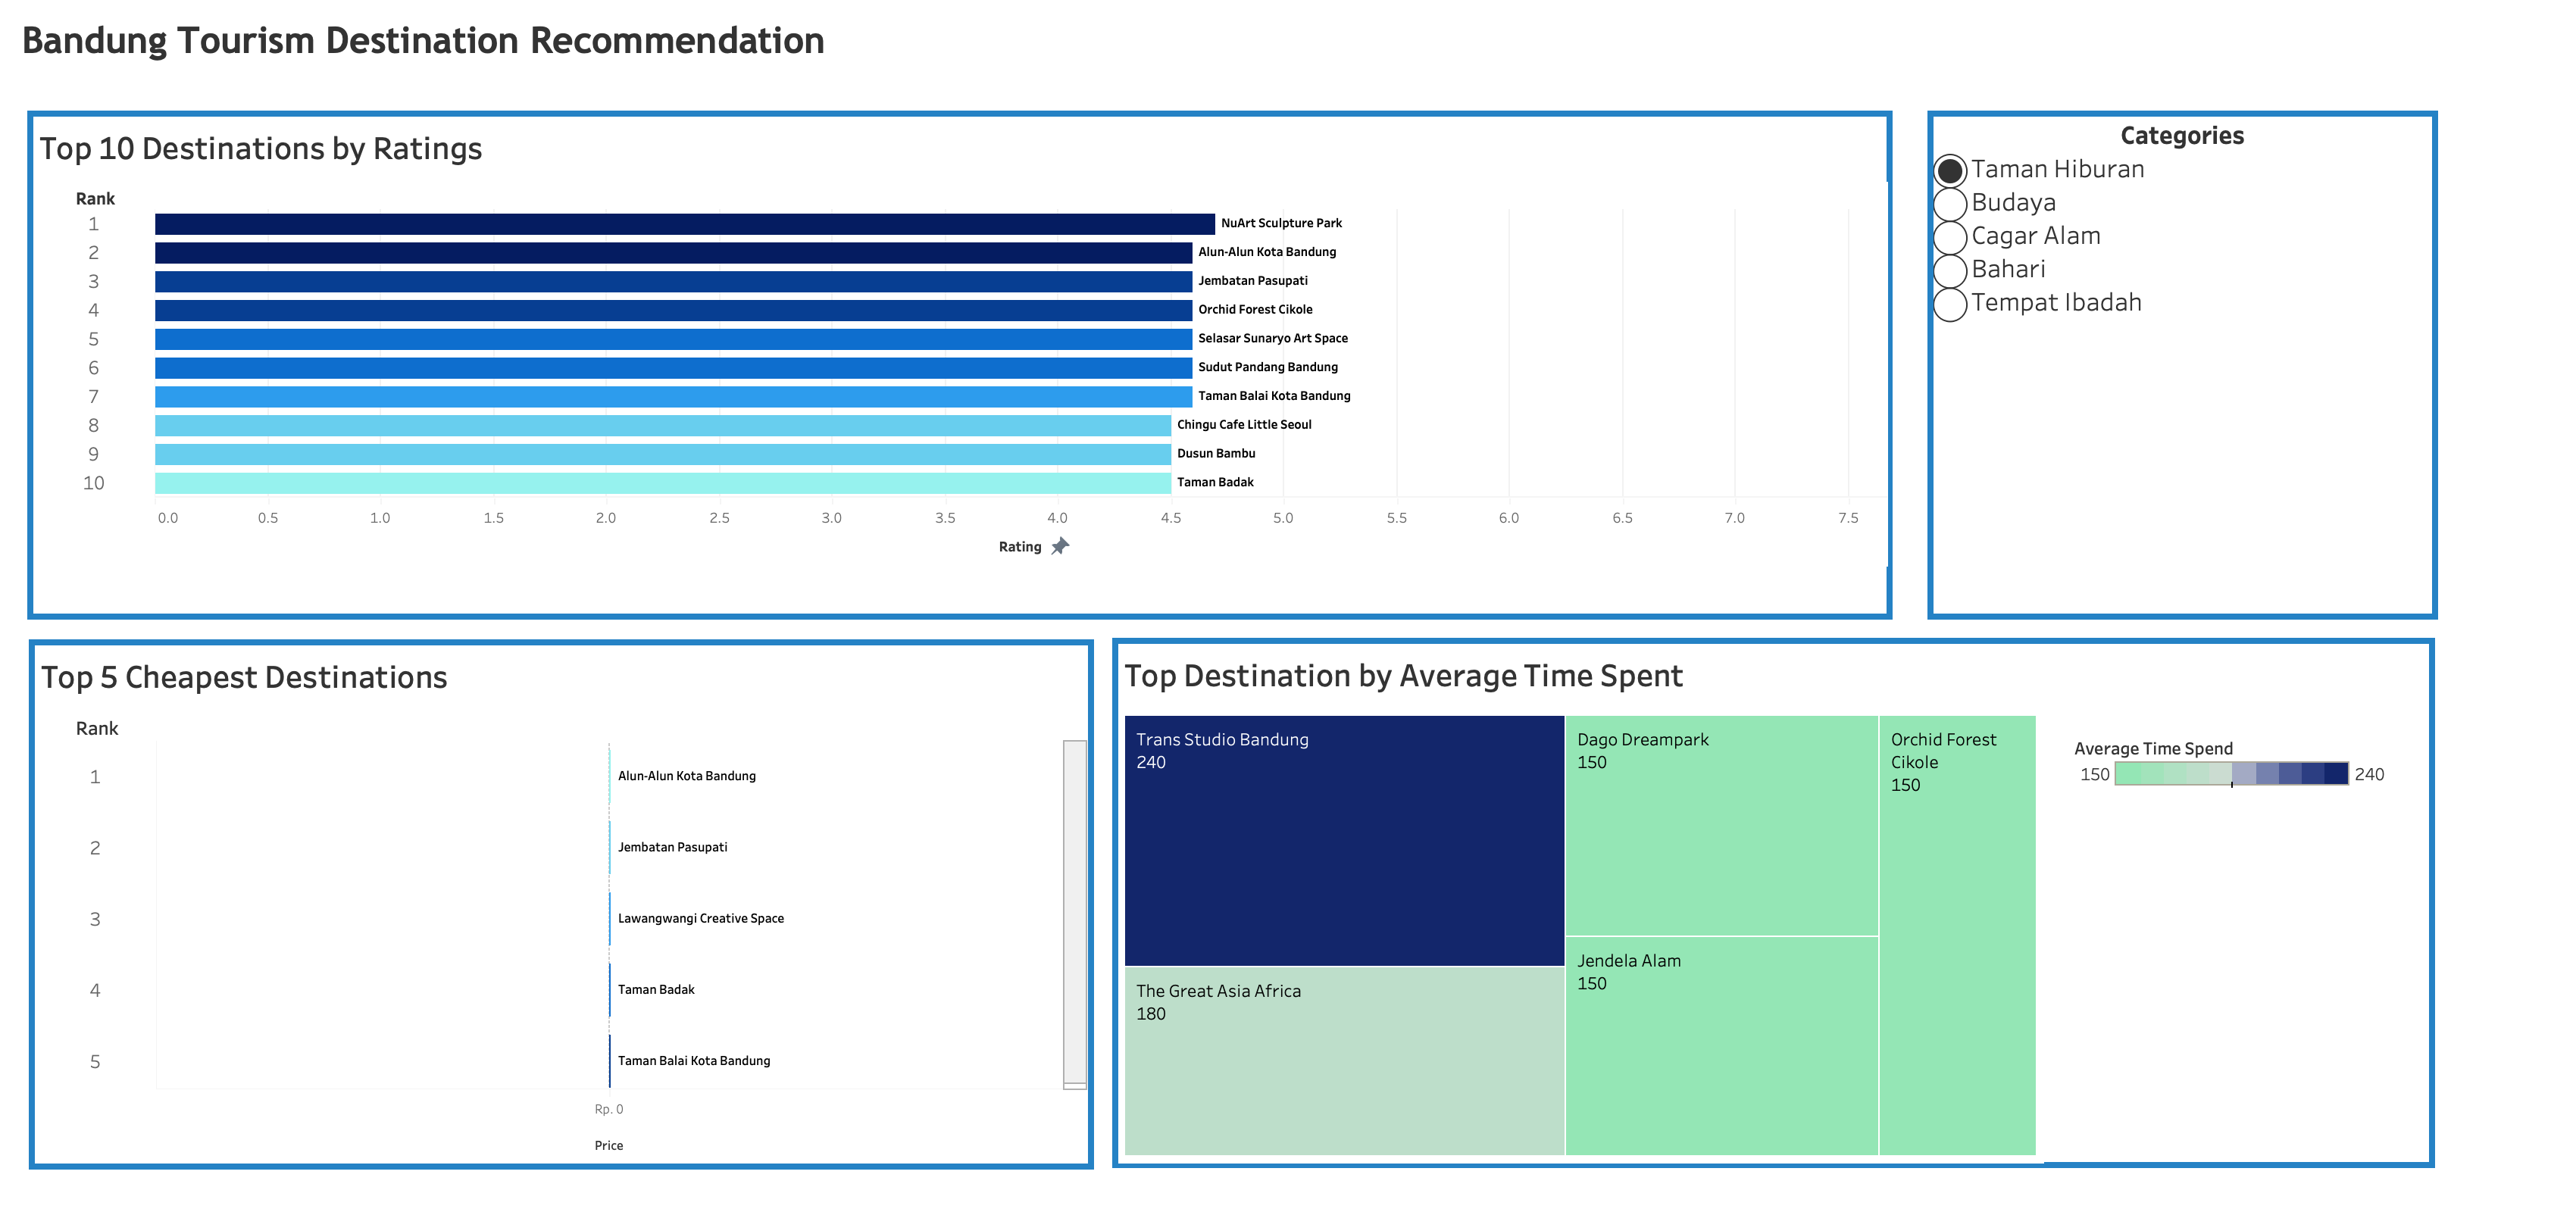

The dashboard page shown, as its layout file describes it:
{"tool":"tableau","page":{"name":"Dash Board Bandung","canvas":[1700,800],"ordinal":0},"visuals":[{"type":"title","box":[8,8,1684,50]},{"type":"blank","box":[60,60,542,266]},{"type":"worksheet","title":"Top Rated Places (Bandung) ","mark":"Automatic","cols":["Rating"],"box":[18,73,1231,336]},{"type":"parameter","param":"[Parameters].[Parameter 1]","box":[1272,73,337,336]},{"type":"worksheet","title":"Average Time Spend (Bandung) ","mark":"Automatic","box":[734,421,873,350]},{"type":"worksheet","title":"Cheapest Places (Bandung) ","mark":"Automatic","cols":["Price"],"box":[19,422,703,350]},{"type":"legend","title":"Average Time Spend (Bandung) ","param":"[federated.07echau0cc9wpq1a99yee0hrih15].[usr:Calculation_1931199867067944968:qk","box":[1369,482,210,92]}]}

Visuals, with their boxes in screenshot pixels (x1, y1, x2, y2), scaled from the page's 1700x800 canvas onto the 2576x1212 screenshot:
title: Rect(12, 12, 2564, 88)
blank: Rect(91, 91, 912, 494)
"Top Rated Places (Bandung) " worksheet: Rect(27, 111, 1893, 620)
parameter: Rect(1927, 111, 2438, 620)
"Average Time Spend (Bandung) " worksheet: Rect(1112, 638, 2435, 1168)
"Cheapest Places (Bandung) " worksheet: Rect(29, 639, 1094, 1170)
"Average Time Spend (Bandung) " legend: Rect(2074, 730, 2393, 870)
